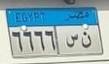6: (44, 29, 56, 51), (12, 30, 22, 53), (34, 30, 44, 52), (23, 31, 32, 51)
noon: (81, 29, 93, 50)
seen: (64, 32, 79, 50)
